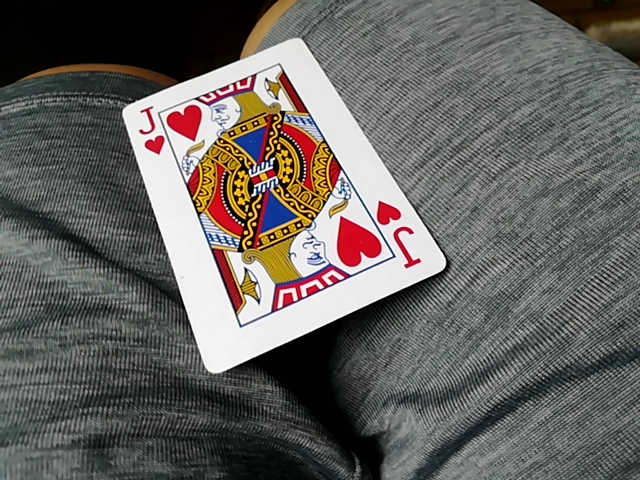hx j: (121, 41, 444, 380)
